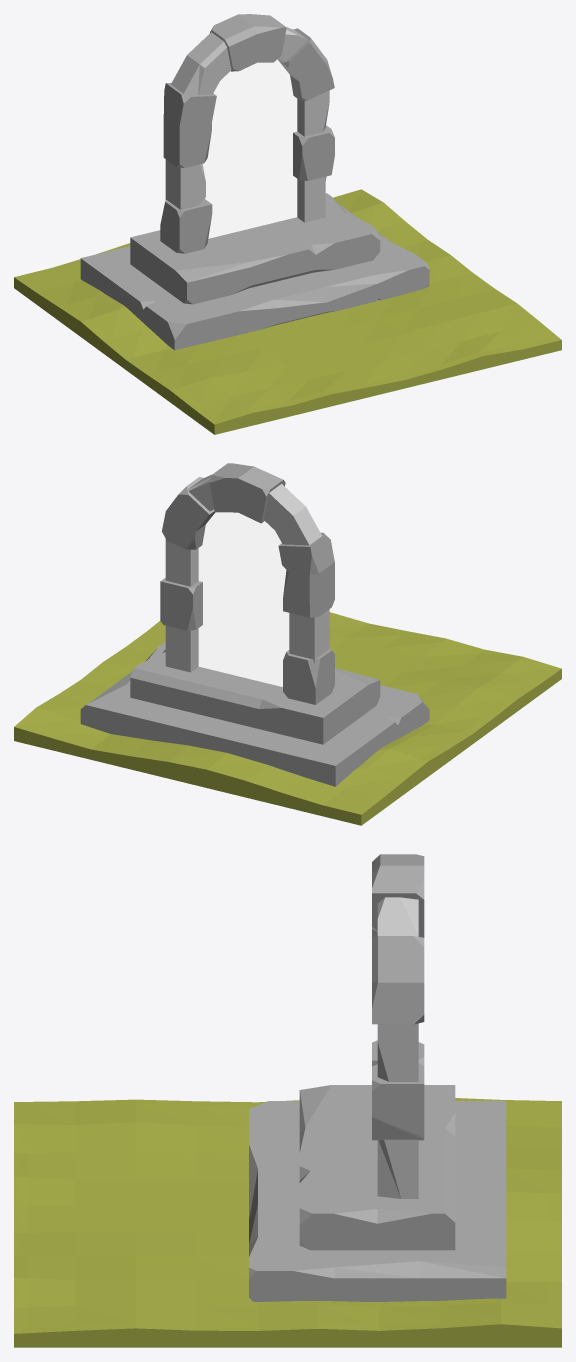
Rendered from portal.glb.
3 renders of one model, top to bottom at view 1: azimuth 30°, elevation 25°; view 2: azimuth 150°, elevation 25°; view 3: azimuth 270°, elevation 25°, orthographic. The views are drawn at different scales.
Parts seen in each view (by area): view 1: Plane, Step.001, portalLight, Step, Outer, Inner; view 2: Plane, Step.001, portalLight, Outer, Step, Inner; view 3: Plane, Step.001, Step, Outer, Inner.
Part boxes in pixels (box(x1,y1,x2,y2)): Plane: box(14, 189, 561, 434); Step.001: box(80, 203, 429, 350); portalLight: box(202, 59, 297, 238); Step: box(130, 193, 380, 304); Outer: box(160, 14, 334, 253); Inner: box(165, 27, 329, 246); Plane: box(14, 612, 561, 825); Step.001: box(80, 642, 429, 786); portalLight: box(198, 512, 289, 686); Outer: box(160, 463, 334, 704); Step: box(130, 649, 380, 744); Inner: box(165, 474, 329, 672); Plane: box(14, 1098, 561, 1347); Step.001: box(249, 1101, 506, 1301); Step: box(299, 1085, 455, 1250); Outer: box(372, 854, 424, 1140); Inner: box(377, 897, 418, 1198).
Size of the model in its own units: 7.04 by 5.19 by 7.04.
